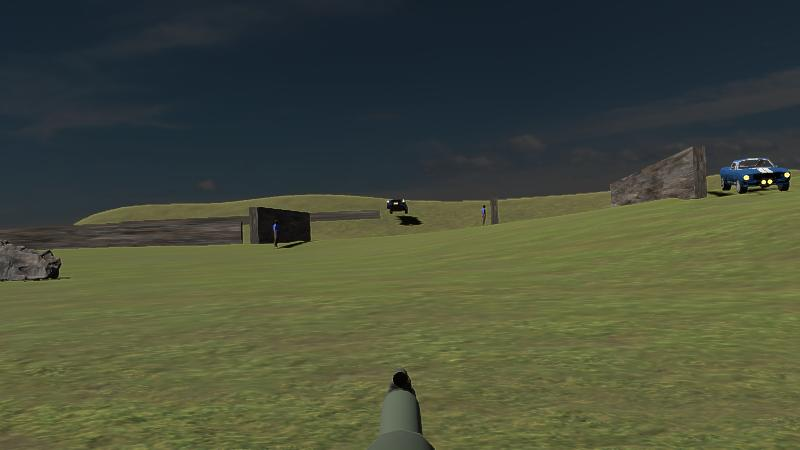car: (720, 156, 792, 193)
